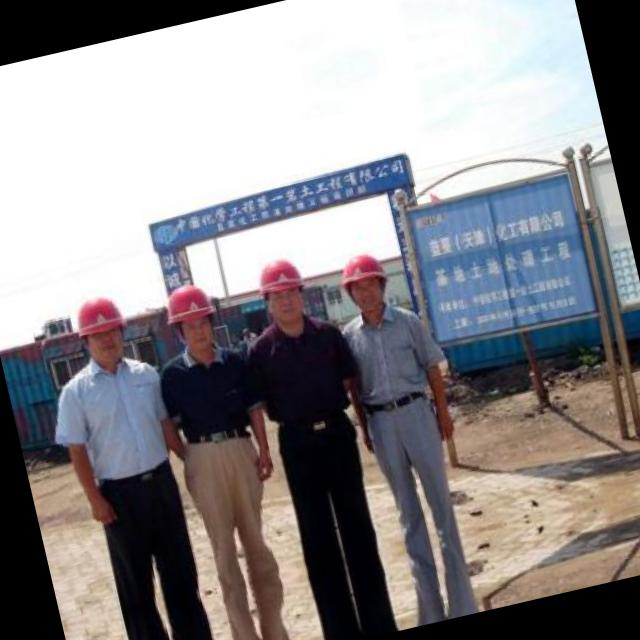helmet: (66, 284, 135, 368), (158, 278, 226, 362), (248, 248, 314, 332), (334, 242, 396, 322)
